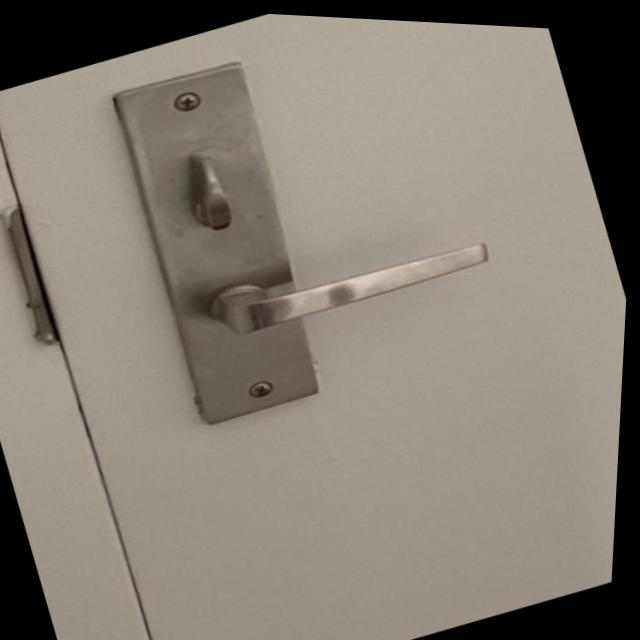door_handle: (175, 167, 536, 376)
